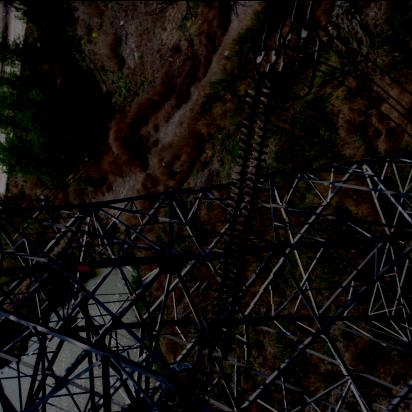insulator: (191, 78, 295, 361)
